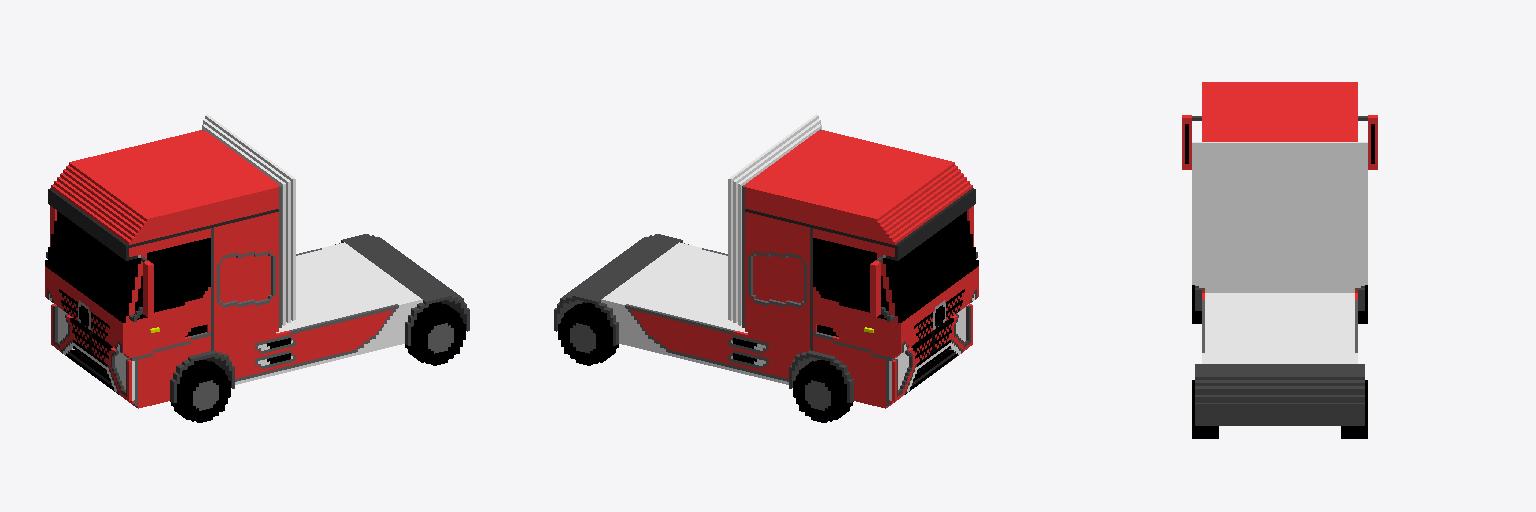
3 renders of one model, left to right at view 1: azimuth 30°, elevation 25°; view 2: azimuth 150°, elevation 25°; view 3: azimuth 270°, elevation 25°, orthographic.
Visible parts, largest first — view 1: object 1; view 2: object 1; view 3: object 1.
Boxes of the visible parts, x1=… form: object 1: x1=45, y1=114, x2=469, y2=422; object 1: x1=554, y1=114, x2=978, y2=422; object 1: x1=1182, y1=82, x2=1377, y2=438.
Size of the model in its own units: 11.7 by 7.2 by 5.8.
1 materials, 1 textured.